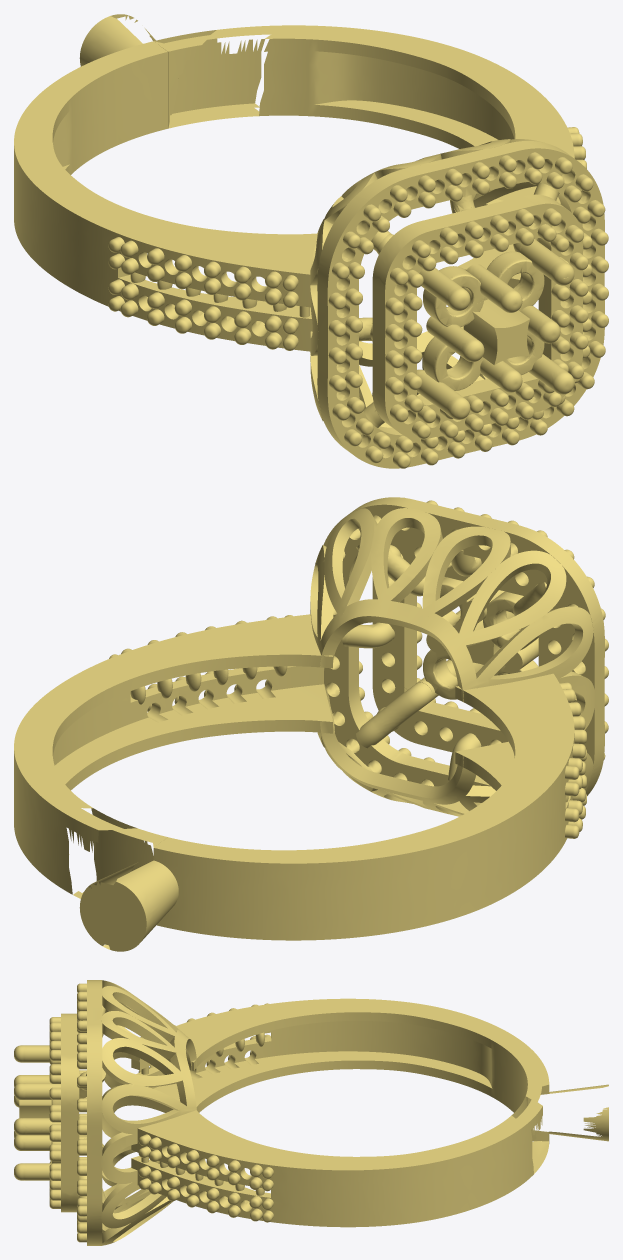
Rendered from mum_3.glb.
The picture shows the model from 3 angles, top to bottom: view 1: azimuth 30°, elevation 25°; view 2: azimuth 150°, elevation 25°; view 3: azimuth 270°, elevation 25°; orthographic projection. The views are drawn at different scales.
Visible parts, largest first — view 1: Renderer Node; view 2: Renderer Node; view 3: Renderer Node.
Part boxes in pixels (x1,y1,x2,y2): Renderer Node: [14, 14, 608, 468]; Renderer Node: [14, 497, 608, 951]; Renderer Node: [14, 980, 608, 1245].
Size of the model in its own units: 21.58 by 12.58 by 31.63.
